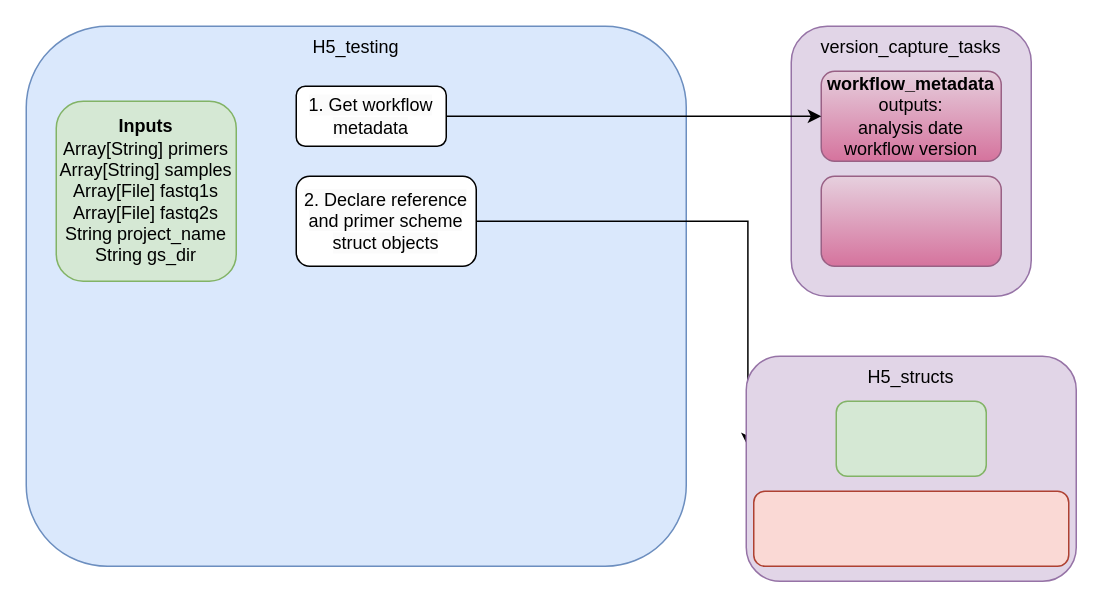
Image size: 1103x608. Some labels were removed from this diagram. Here are the shapes that lost their labels. From the top down, the centre of each, then its label:
At [910,220]: "capture_versions output: version capture file".
At [910,438]: "Inputs Reference fastas Primer bed files".
At [910,528]: "Outputs Array[PrimerScheme] primer_schemes Array[Reference] references".
